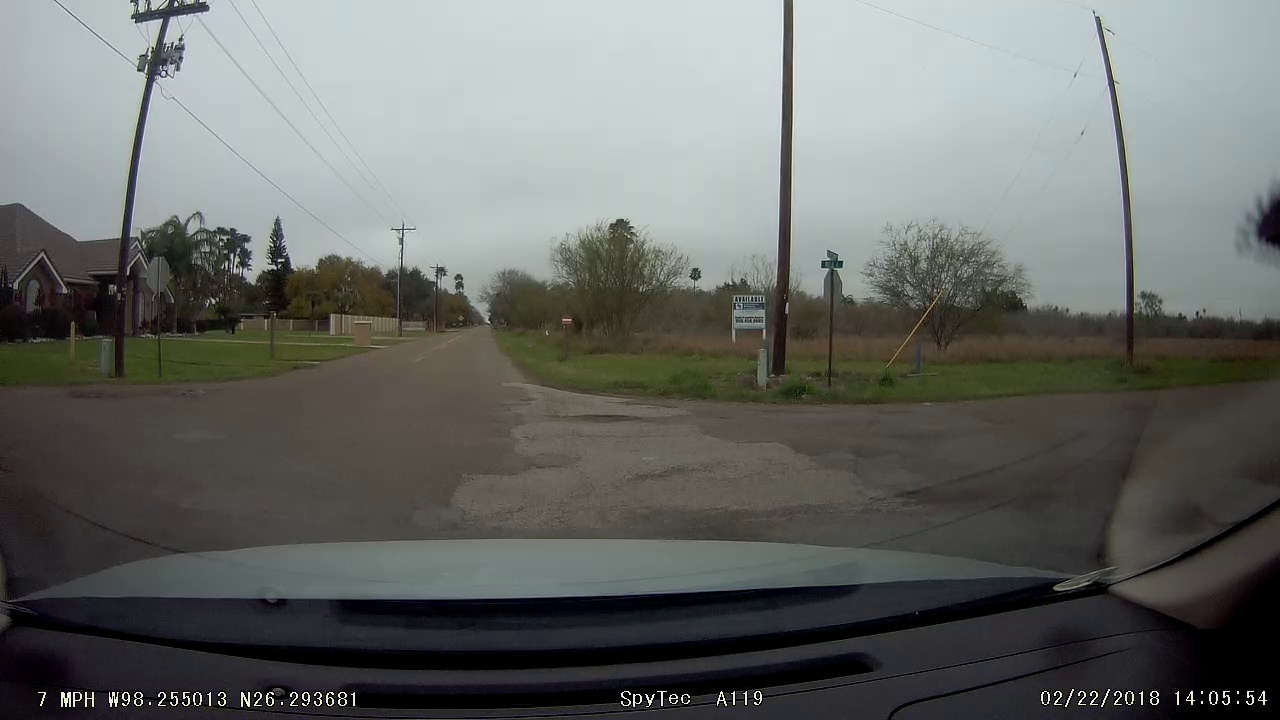pothole: (449, 443, 576, 487), (550, 403, 646, 432)
